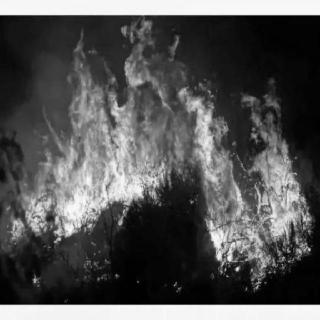Fire: (4, 19, 314, 292)
